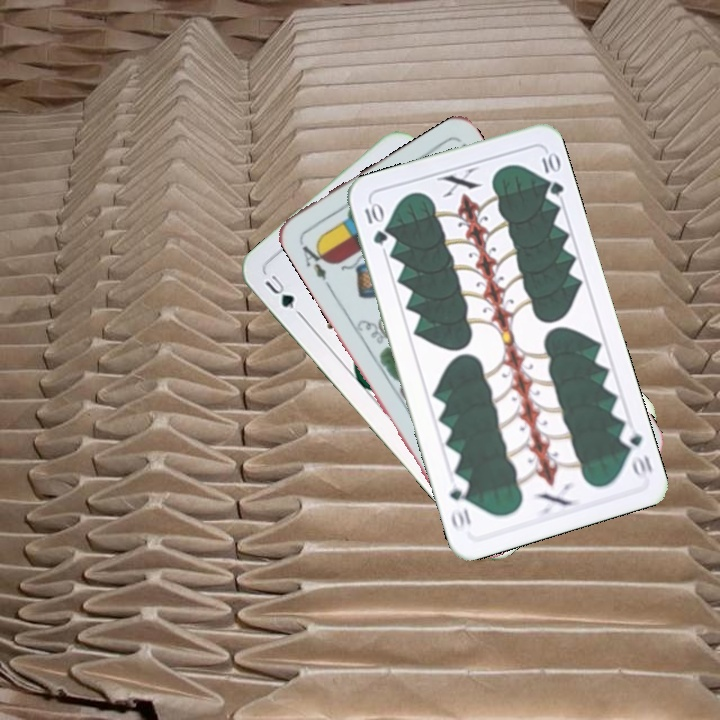EA: (296, 237, 332, 283)
G10: (616, 422, 656, 480), (360, 199, 390, 248)
GU: (260, 270, 304, 319)
